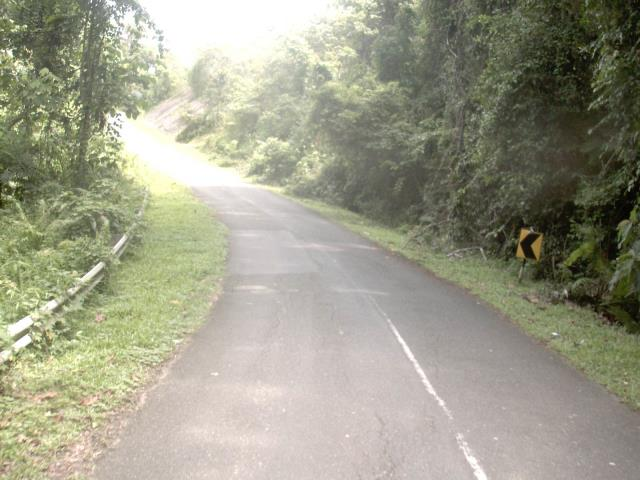traffic_sign: (509, 221, 549, 269)
